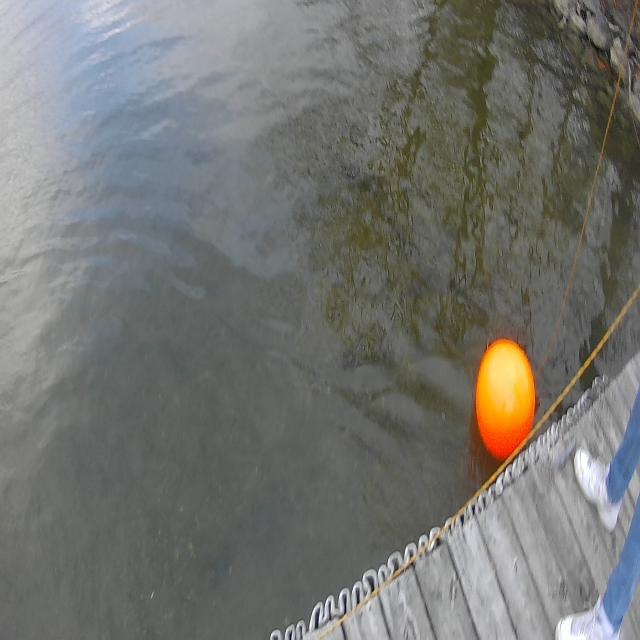Buoy: (465, 323, 540, 471)
